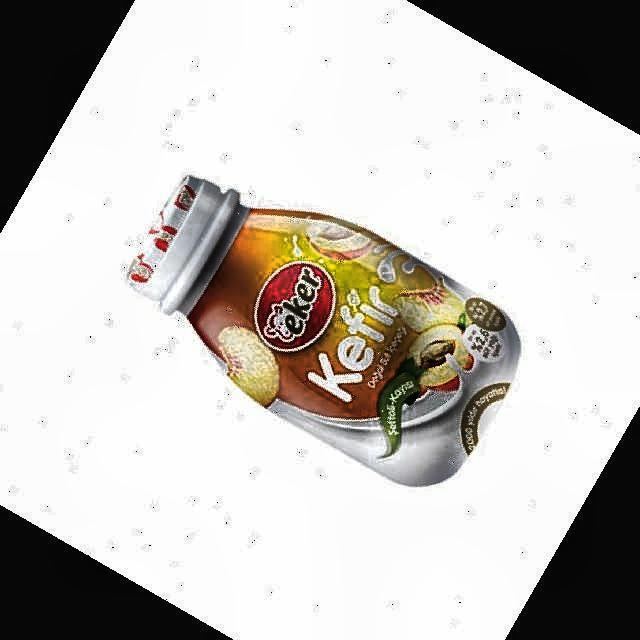plastic: (128, 176, 520, 486)
